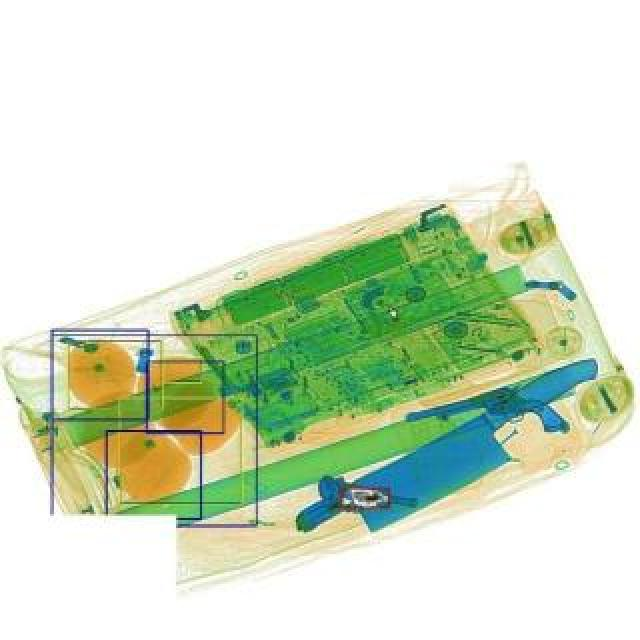gun: (404, 374, 568, 466), (294, 472, 422, 560)
knife: (344, 356, 626, 536)
